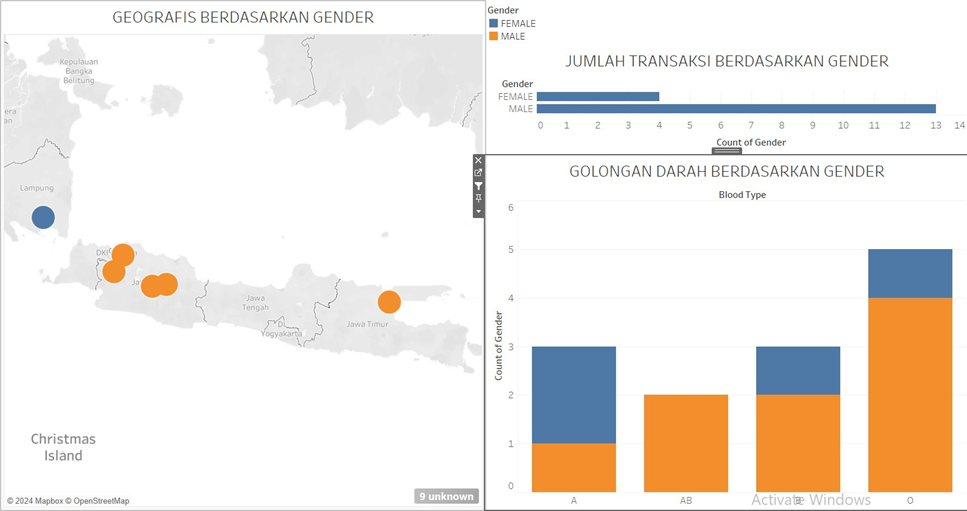

The page's visual inventory and layout, read from the dashboard file:
{"tool":"tableau","page":{"name":"Dashboard 1","canvas":[1000,1000],"units":"permille","ordinal":0},"visuals":[{"type":"worksheet","title":"GEOGRAFIS BERDASARKAN GENDER","mark":"Automatic","box":[5,9.4,495,981.2]},{"type":"legend","title":"GEOGRAFIS BERDASARKAN GENDER","param":"[federated.15z57dw0pf9ldv1eb0iiz1xrr116].[none:gender:nk]","box":[500,9.4,495,84.6]},{"type":"worksheet","title":"JUMLAH TRANSAKSI BERDASARKAN GENDER","mark":"Automatic","rows":["gender"],"cols":["gender"],"box":[500,94,495,212.7]},{"type":"worksheet","title":"GOLONGAN DARAH BERDASARKAN GENDER","mark":"Automatic","rows":["gender"],"cols":["blood_type"],"box":[500,306.7,495,683.9]}]}

Visuals, with their boxes on the dashboard's canvas, which has no fixed pixel size, in thousandths of its width and height (x1, y1, x2, y2). These are canvas units, not pixel positions in the 967x511 screenshot, which may show the page scaled, cropped or inside an application window:
"GEOGRAFIS BERDASARKAN GENDER" worksheet: 5, 9, 500, 991
"GEOGRAFIS BERDASARKAN GENDER" legend: 500, 9, 995, 94
"JUMLAH TRANSAKSI BERDASARKAN GENDER" worksheet: 500, 94, 995, 307
"GOLONGAN DARAH BERDASARKAN GENDER" worksheet: 500, 307, 995, 991
